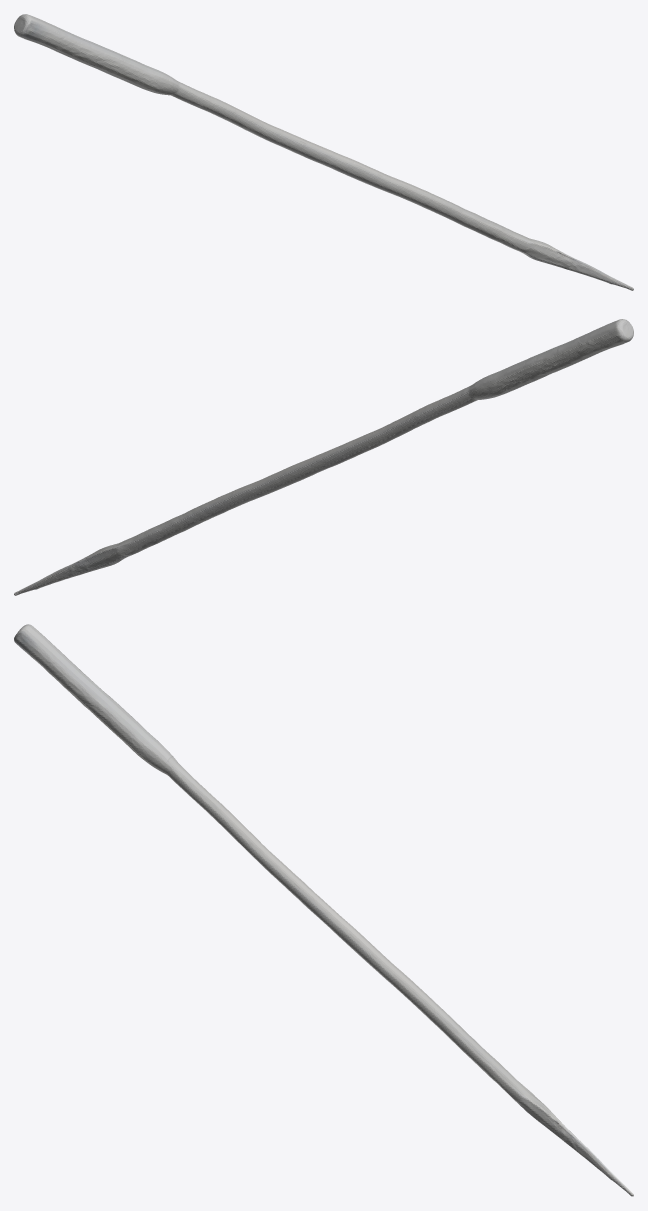
File: needle.glb
3 renders of one model, top to bottom at view 1: azimuth 30°, elevation 25°; view 2: azimuth 150°, elevation 25°; view 3: azimuth 330°, elevation 25°, orthographic.
Visible parts, largest first — view 1: tripo_node_a7c119e0-dc28-455e-bd1f-4c4e654ded4c; view 2: tripo_node_a7c119e0-dc28-455e-bd1f-4c4e654ded4c; view 3: tripo_node_a7c119e0-dc28-455e-bd1f-4c4e654ded4c.
Boxes of the visible parts, x1=… form: tripo_node_a7c119e0-dc28-455e-bd1f-4c4e654ded4c: x1=14, y1=14, x2=633, y2=290; tripo_node_a7c119e0-dc28-455e-bd1f-4c4e654ded4c: x1=14, y1=319, x2=633, y2=595; tripo_node_a7c119e0-dc28-455e-bd1f-4c4e654ded4c: x1=14, y1=624, x2=633, y2=1196.
Bounding box in the file's own units: 1 × 0.6552 × 0.036.
1 material, 1 textured.
